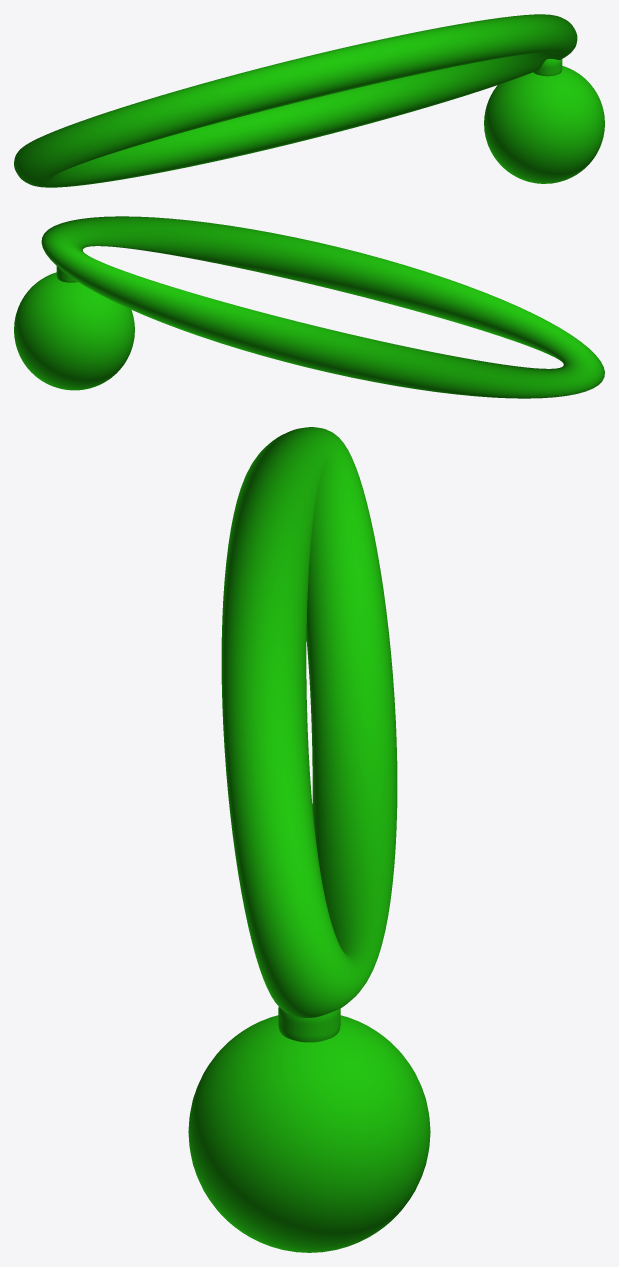
The model's file is zcollar-allgrn-tag-3d.glb.
The picture shows the model from 3 angles, top to bottom: view 1: azimuth 30°, elevation 25°; view 2: azimuth 150°, elevation 25°; view 3: azimuth 270°, elevation 25°; orthographic projection. The views are drawn at different scales.
Visible parts, largest first — view 1: mesh_id38, mesh_id64, mesh_id72; view 2: mesh_id38, mesh_id64; view 3: mesh_id38, mesh_id64, mesh_id72.
Part boxes in pixels (box(x1,y1,x2,y2)): mesh_id38: box(14, 14, 577, 187); mesh_id64: box(484, 66, 604, 183); mesh_id72: box(533, 59, 562, 76); mesh_id38: box(41, 216, 604, 398); mesh_id64: box(14, 272, 134, 390); mesh_id38: box(221, 427, 397, 1017); mesh_id64: box(188, 1015, 430, 1252); mesh_id72: box(278, 1007, 340, 1042).
Bounding box in the file's own units: 0.3325 × 0.1031 × 0.06.
3 materials, 3 textured.
